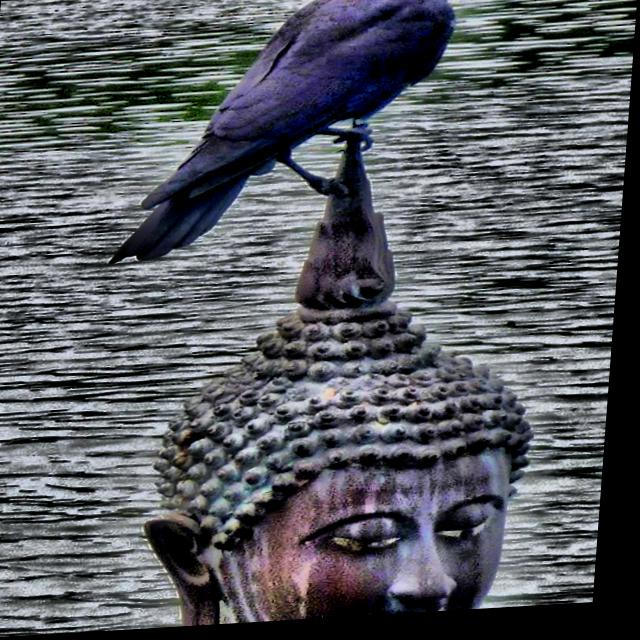crow: (72, 0, 518, 306)
